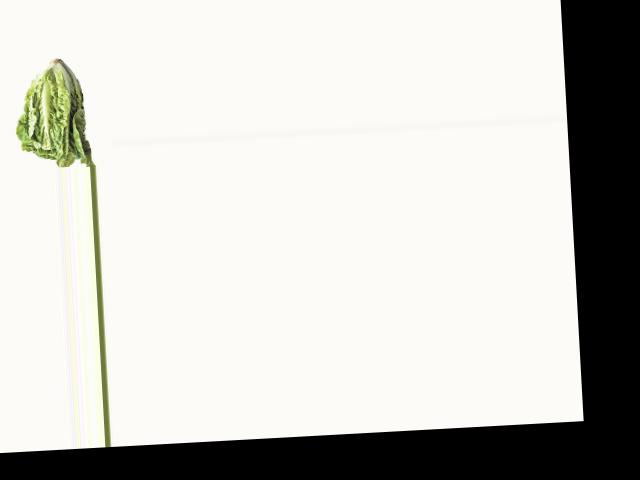lettuce: (8, 59, 92, 170)
